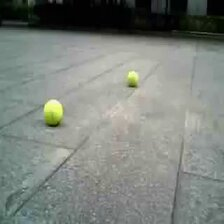tennis: (43, 99, 63, 123), (127, 71, 139, 86)
